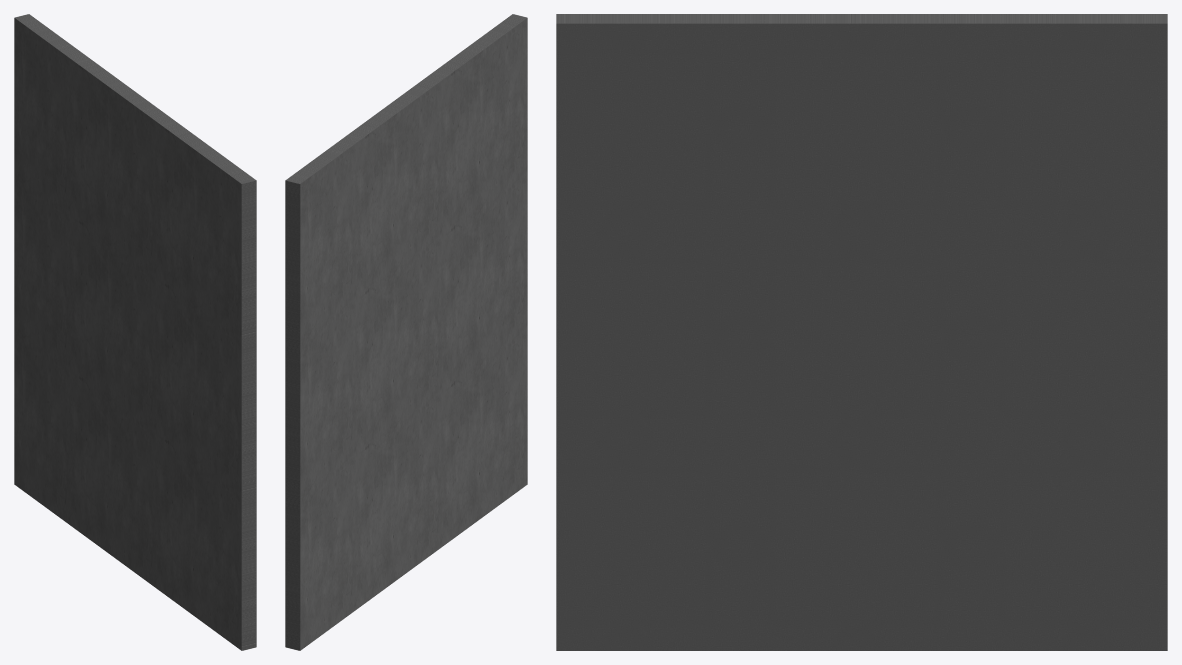
File: wall_27.dae
The picture shows the model from 3 angles, left to right: view 1: azimuth 30°, elevation 25°; view 2: azimuth 150°, elevation 25°; view 3: azimuth 270°, elevation 25°; orthographic projection. The views are drawn at different scales.
Visible parts, largest first — view 1: wall_27; view 2: wall_27; view 3: wall_27.
Boxes of the visible parts, bbox=[...] form: wall_27: bbox=[14, 14, 256, 650]; wall_27: bbox=[285, 14, 527, 650]; wall_27: bbox=[556, 14, 1167, 650].
Size of the model in its own units: 0.1 by 2.65 by 3.
